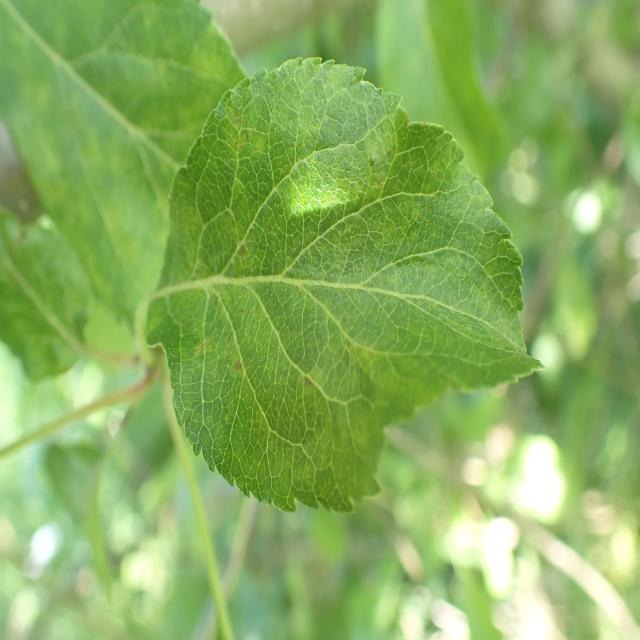scab: (191, 100, 442, 498)
